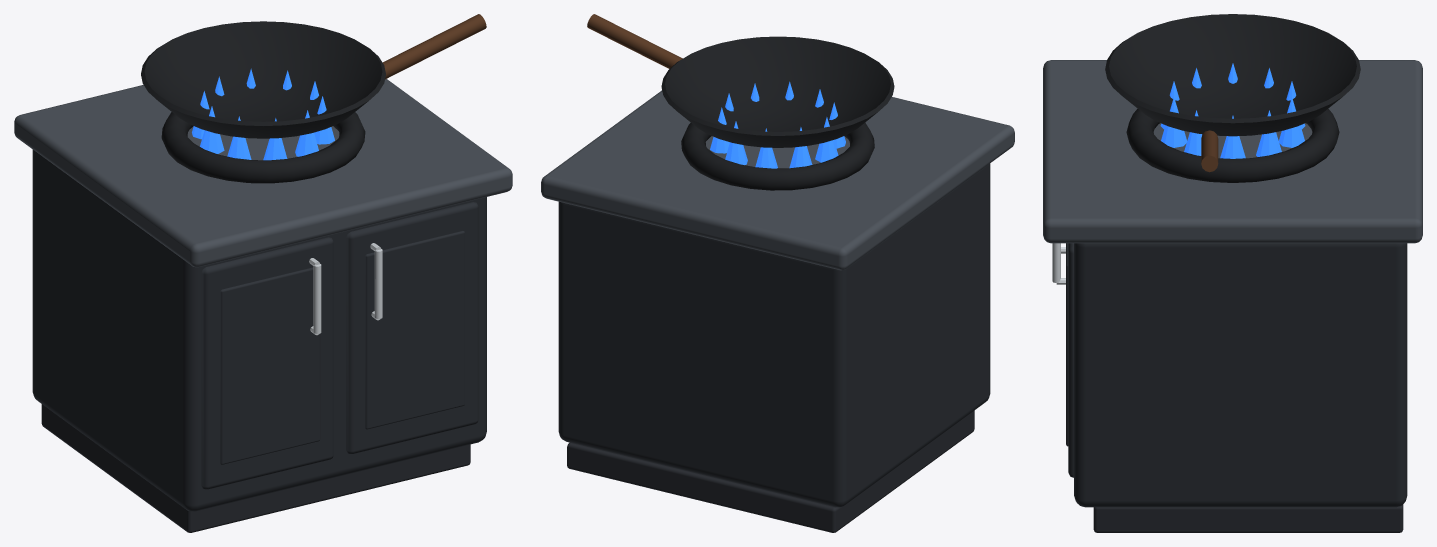
The model's file is station-wok.glb.
The picture shows the model from 3 angles, left to right: view 1: azimuth 30°, elevation 25°; view 2: azimuth 150°, elevation 25°; view 3: azimuth 270°, elevation 25°; orthographic projection. The views are drawn at different scales.
Visible parts, largest first — view 1: WokBase, PanMesh, FlamesMesh; view 2: WokBase, PanMesh, FlamesMesh; view 3: WokBase, PanMesh, FlamesMesh.
Part boxes in pixels (x1,y1,x2,y2): WokBase: [14, 79, 512, 532]; PanMesh: [141, 14, 486, 138]; FlamesMesh: [192, 68, 334, 160]; WokBase: [541, 90, 1014, 532]; PanMesh: [587, 14, 894, 147]; FlamesMesh: [710, 81, 845, 168]; WokBase: [1043, 60, 1422, 532]; PanMesh: [1105, 14, 1360, 172]; FlamesMesh: [1160, 63, 1305, 158].
Size of the model in its own units: 1.15 by 1.17 by 0.98.
